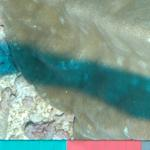alive: (17, 8, 148, 139)
